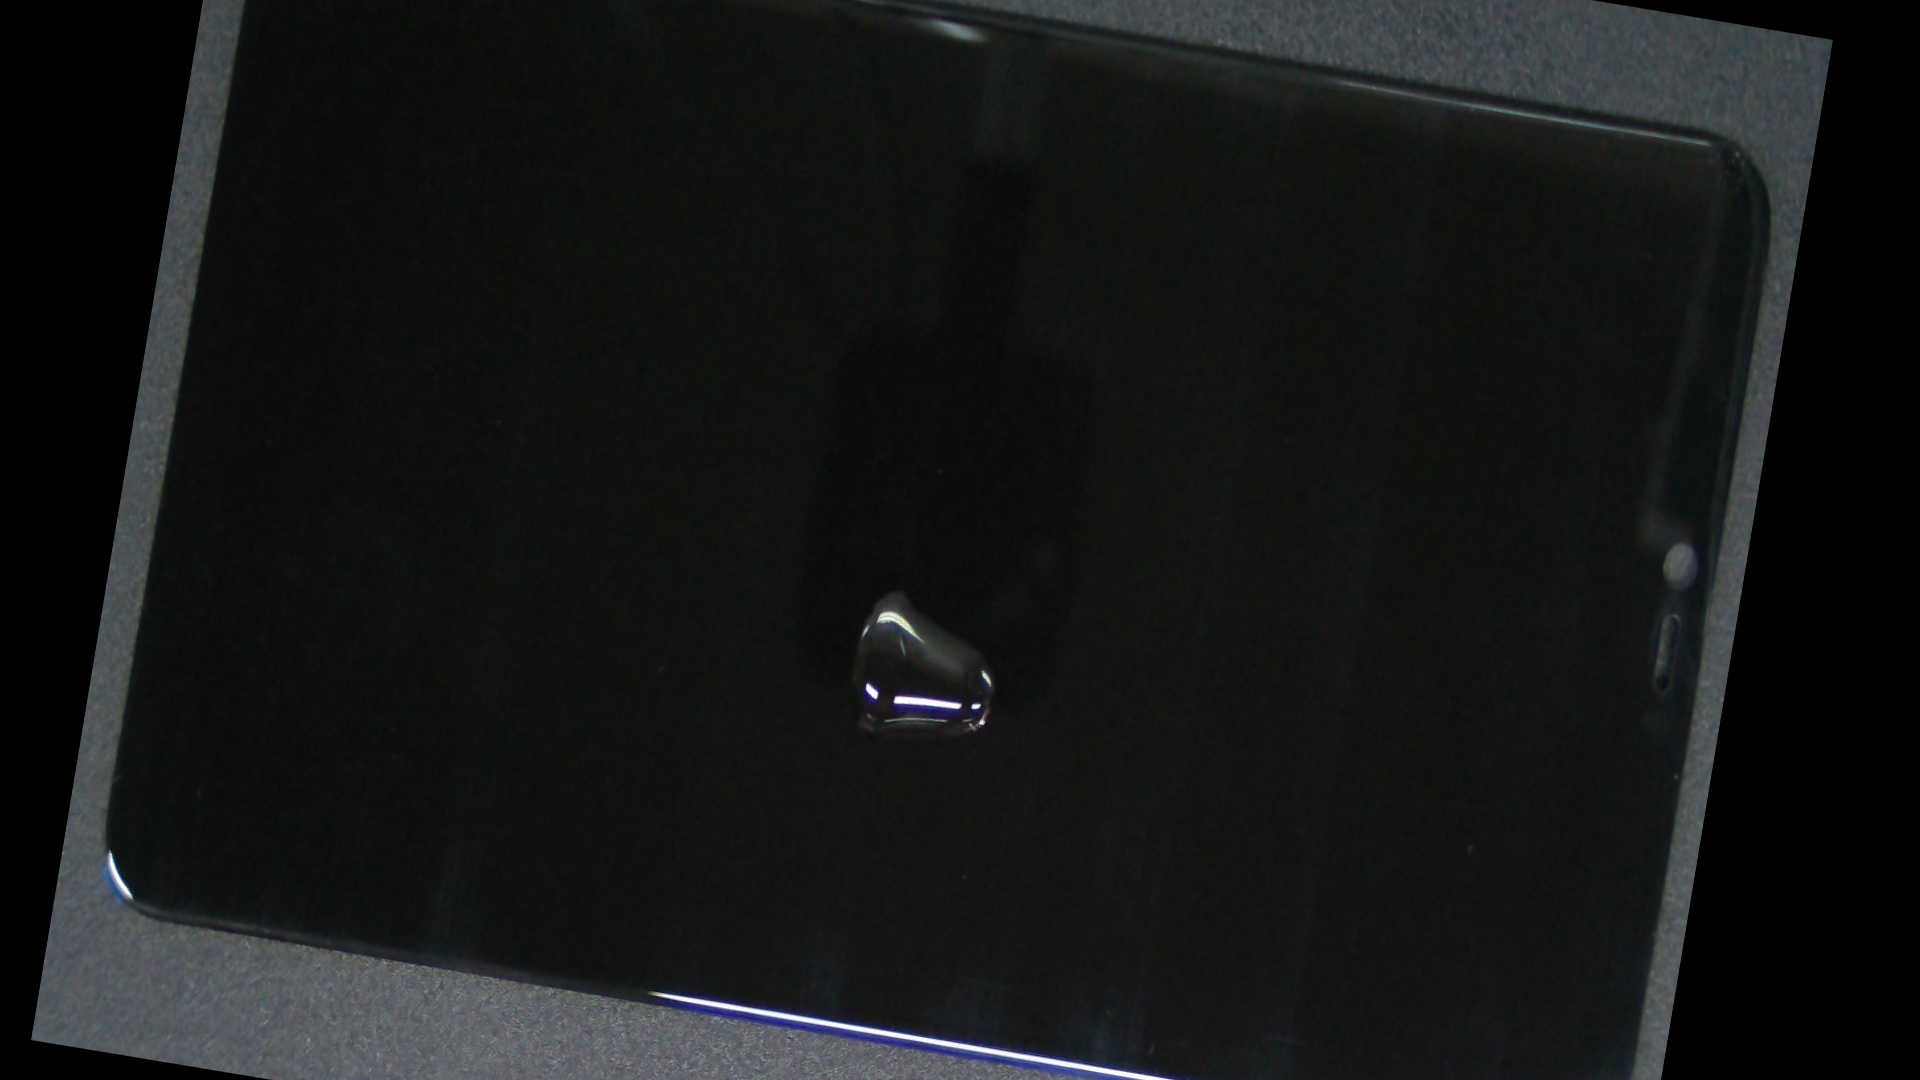oil: (454, 183, 1333, 1000)
